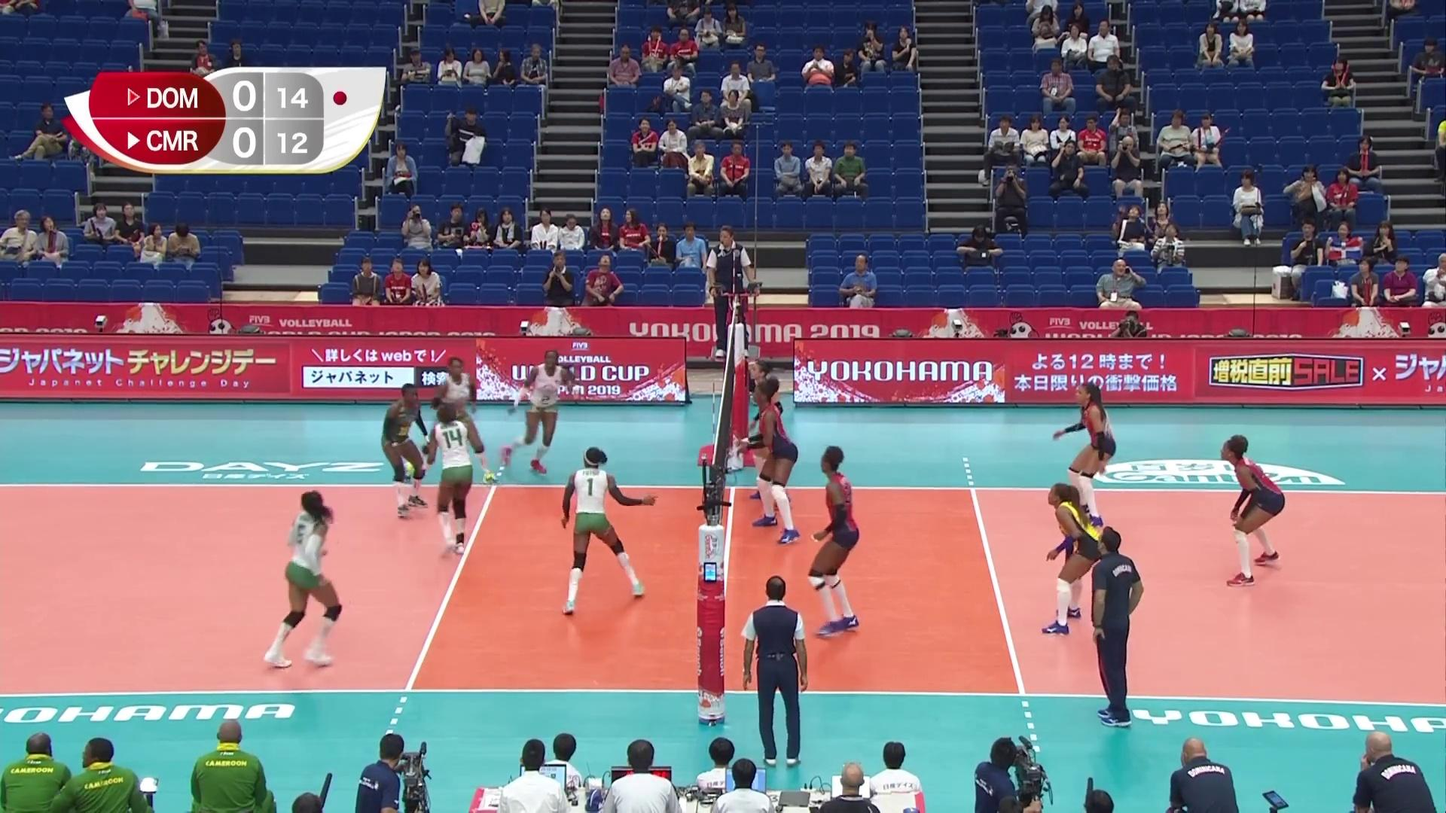player: (564, 446, 659, 612), (791, 448, 867, 640), (264, 487, 342, 670), (1036, 485, 1112, 635), (420, 356, 495, 495), (1056, 385, 1124, 533), (500, 349, 576, 480), (1221, 437, 1286, 588), (430, 407, 494, 560), (379, 378, 441, 530), (744, 378, 801, 543), (746, 357, 796, 511)
refree: (740, 568, 809, 770), (707, 220, 755, 356)
